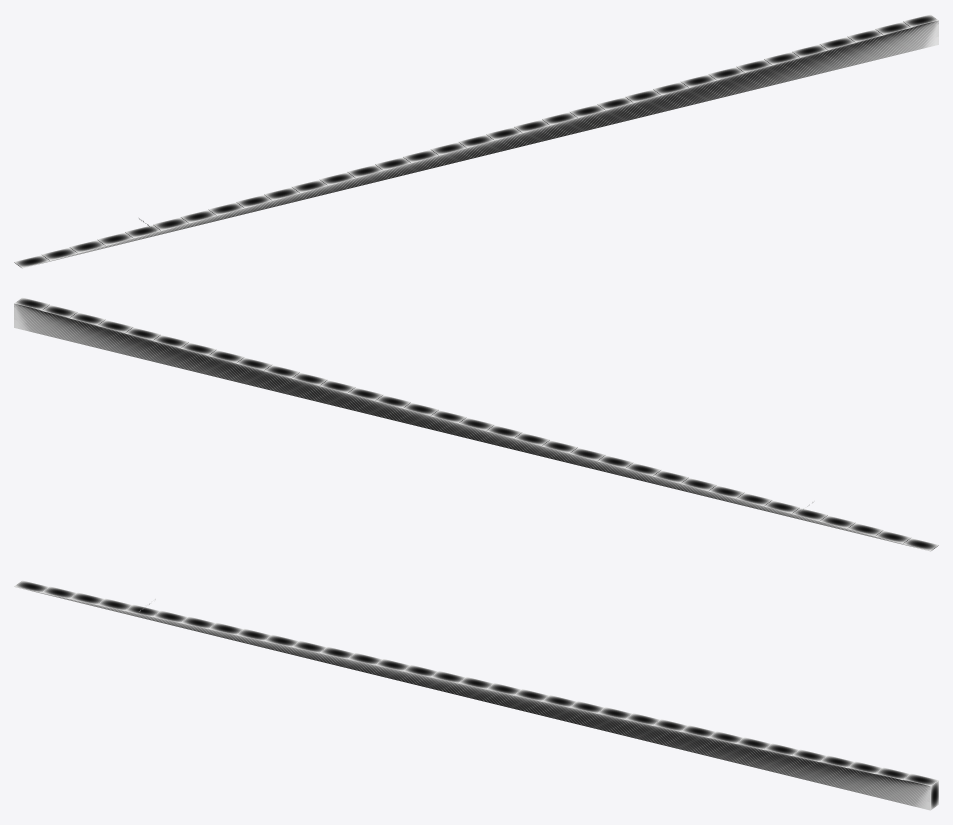
The picture shows the model from 3 angles, top to bottom: view 1: azimuth 30°, elevation 25°; view 2: azimuth 150°, elevation 25°; view 3: azimuth 330°, elevation 25°; orthographic projection.
Parts seen in each view (by area): view 1: linearstair:linearstair_ncl1_1; view 2: linearstair:linearstair_ncl1_1; view 3: linearstair:linearstair_ncl1_1.
Boxes of the visible parts, x1=… form: linearstair:linearstair_ncl1_1: x1=14, y1=14, x2=938, y2=268; linearstair:linearstair_ncl1_1: x1=14, y1=297, x2=938, y2=551; linearstair:linearstair_ncl1_1: x1=14, y1=580, x2=938, y2=810.
Bounding box in the file's own units: 162 × 4.11 × 5.35.
Materials: 2 (1 with a texture image).
